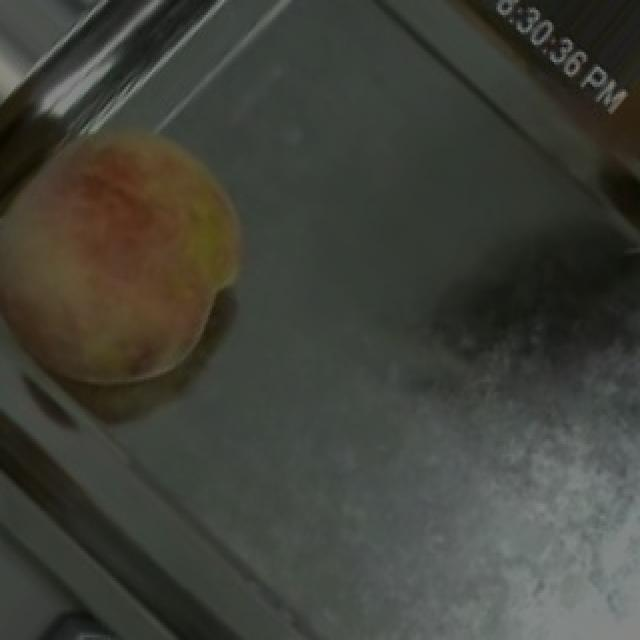Fruit: (0, 74, 298, 437)
